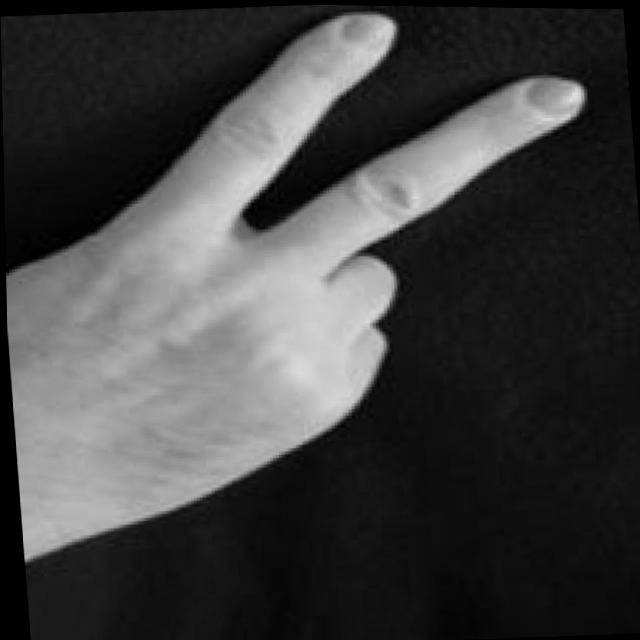V: (0, 0, 622, 588)
